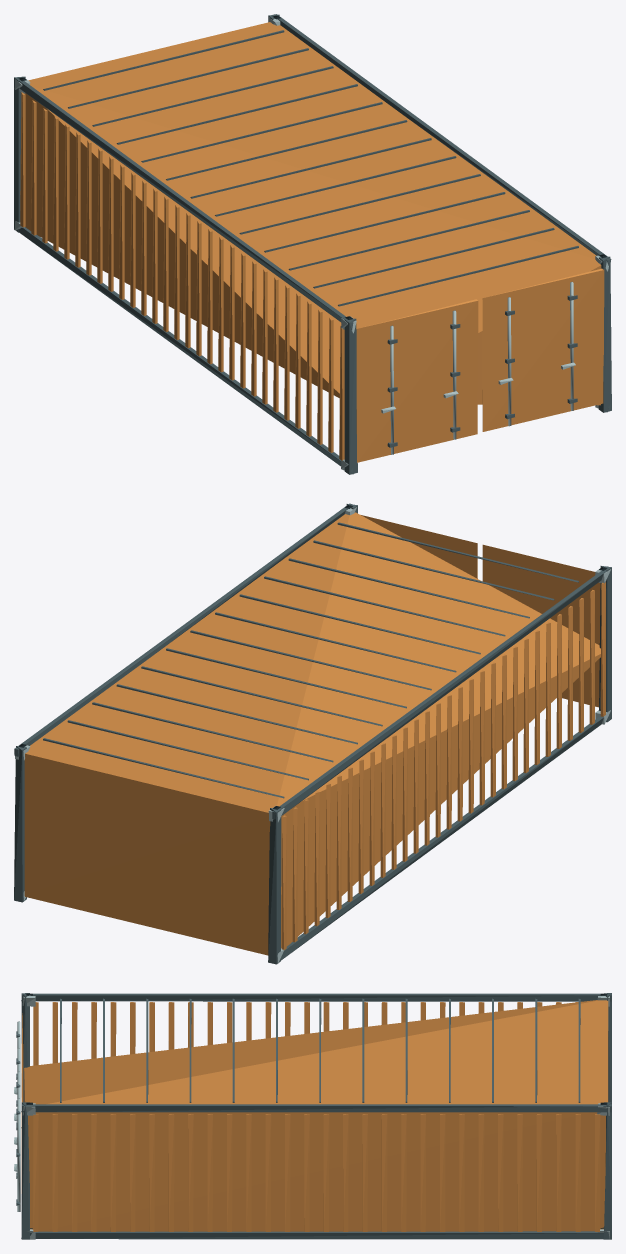
Rendered from quay-container.low.glb.
3 renders of one model, top to bottom at view 1: azimuth 30°, elevation 25°; view 2: azimuth 150°, elevation 25°; view 3: azimuth 270°, elevation 25°, orthographic. The views are drawn at different scales.
Parts seen in each view (by area): view 1: geometry:body:0, geometry:body:1, geometry:body:2; view 2: geometry:body:0, geometry:body:1; view 3: geometry:body:0, geometry:body:1, geometry:body:2.
Part boxes in pixels (left/top/right/bottom): geometry:body:0: left=20, top=22, right=604, bottom=462; geometry:body:1: left=14, top=14, right=611, bottom=474; geometry:body:2: left=14, top=17, right=608, bottom=474; geometry:body:0: left=24, top=512, right=605, bottom=955; geometry:body:1: left=14, top=503, right=611, bottom=964; geometry:body:0: left=21, top=1000, right=608, bottom=1231; geometry:body:1: left=16, top=993, right=611, bottom=1239; geometry:body:2: left=14, top=995, right=609, bottom=1239.
Size of the model in its own units: 4.9 by 2.73 by 10.93.
